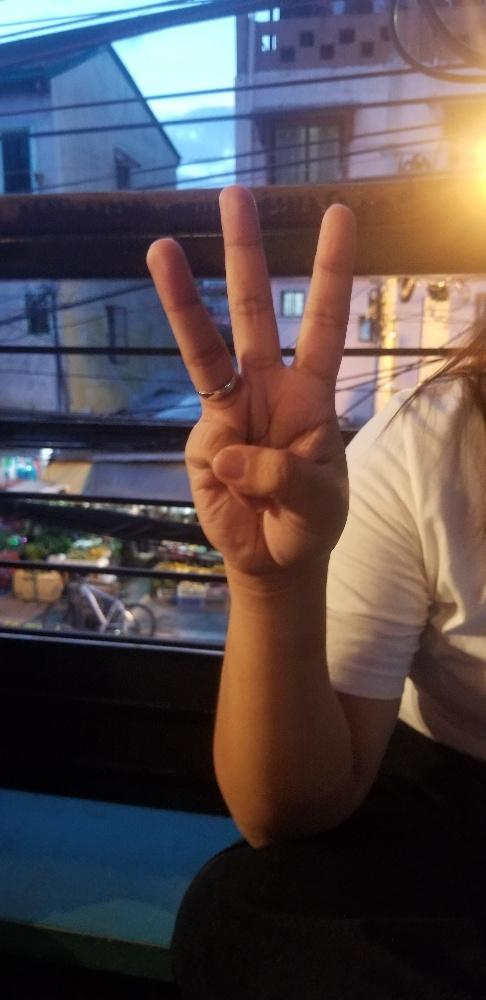w: (145, 183, 358, 573)
